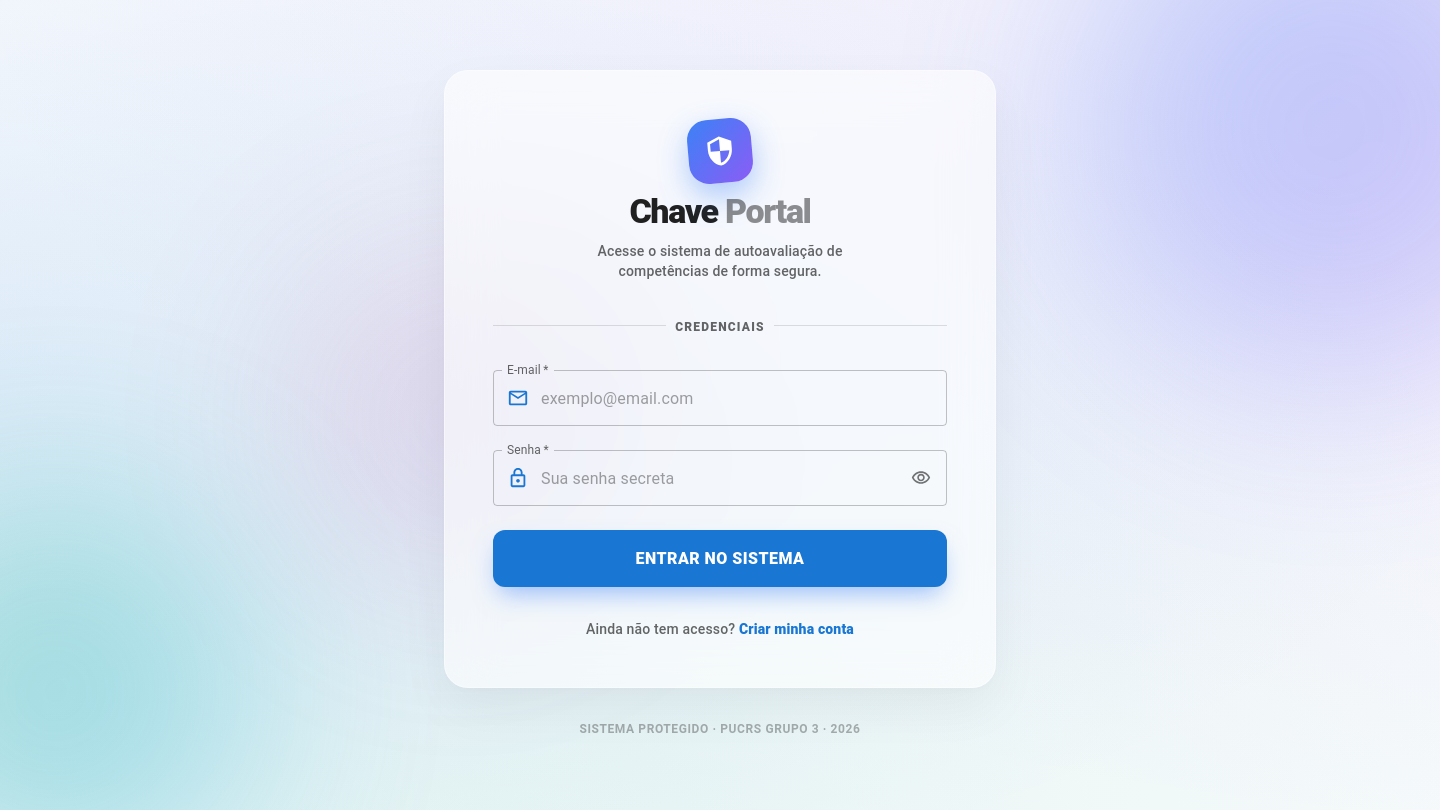
Test: LoginForm › exibe erro quando login falha
Type "joao@email.com" into the field labelled "E-mail *".
click(744, 398); type("joao@email.com")  # box [541, 370, 947, 426]
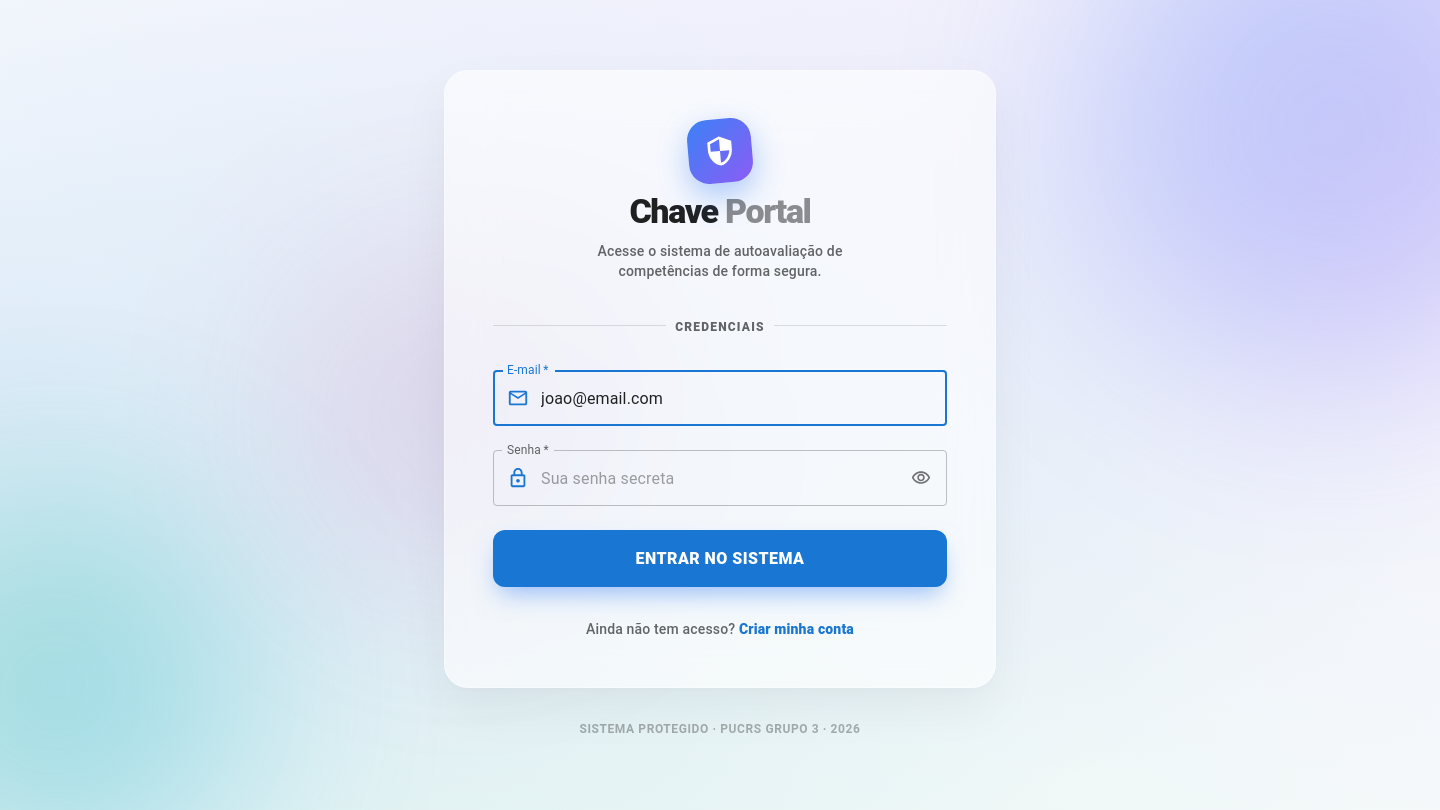
Type "senha123" into the password field labelled "Senha *".
click(720, 478); type("senha123")  # box [541, 450, 898, 506]
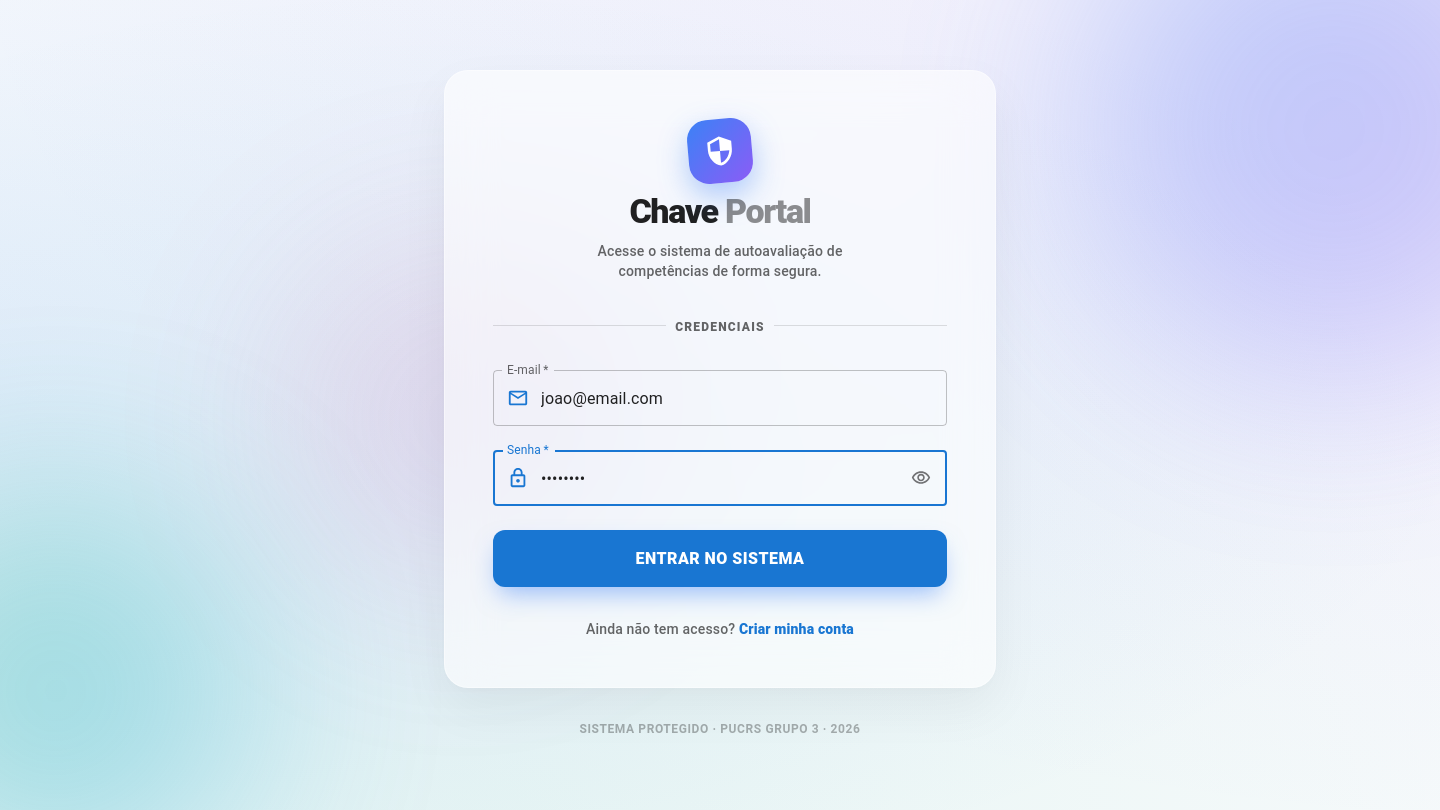
Click the button "Entrar no Sistema".
click(720, 558)  # box [493, 530, 947, 587]
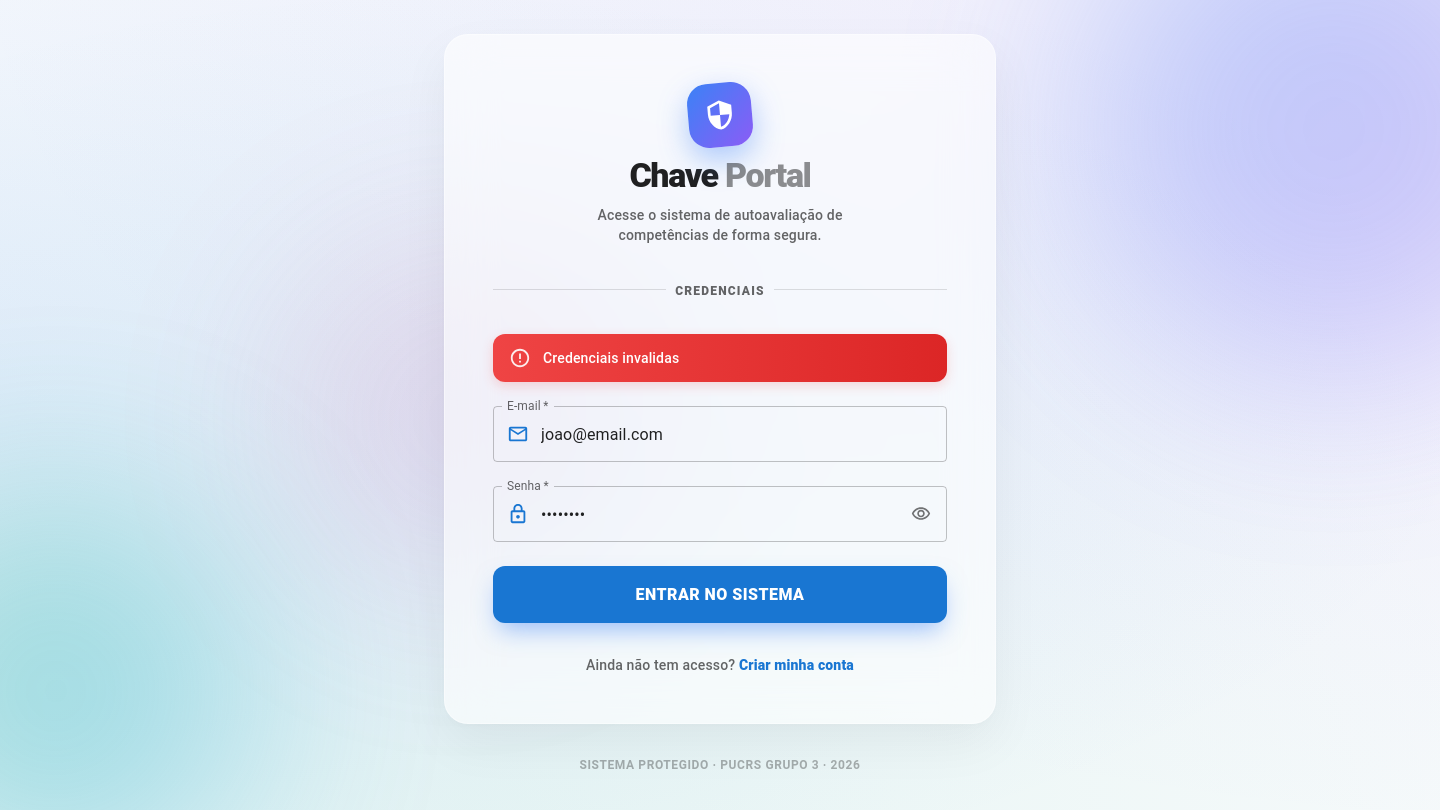
Expected: the text "Credenciais invalidas" is shown, [543, 350, 679, 366]
